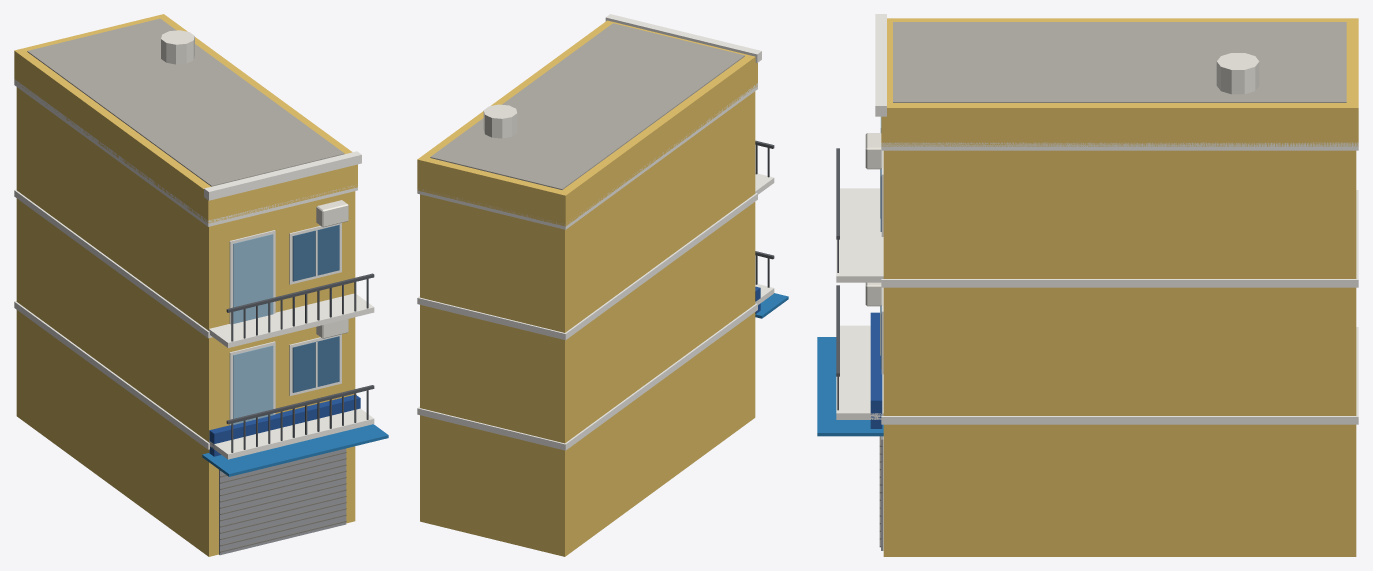
Rendered from BLD_Shophouse_Yellow.fbx.
The picture shows the model from 3 angles, left to right: view 1: azimuth 30°, elevation 25°; view 2: azimuth 150°, elevation 25°; view 3: azimuth 270°, elevation 25°; orthographic projection. The views are drawn at different scales.
Parts seen in each view (by area): view 1: BLD_Shophouse_Yellow; view 2: BLD_Shophouse_Yellow; view 3: BLD_Shophouse_Yellow.
Part boxes in pixels (bbox=[...]): BLD_Shophouse_Yellow: bbox=[14, 14, 388, 556]; BLD_Shophouse_Yellow: bbox=[417, 14, 788, 556]; BLD_Shophouse_Yellow: bbox=[817, 14, 1358, 556].
Size of the model in its own units: 4.8 by 11.1 by 11.45.
